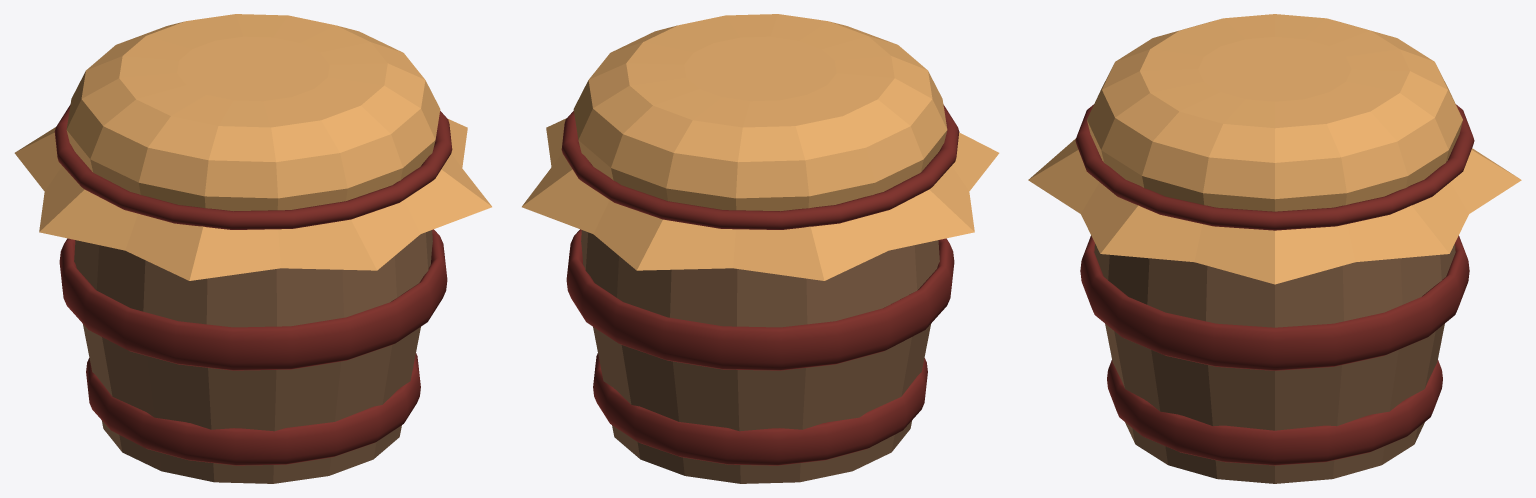
The model's file is env-drum.fbx.
3 renders of one model, left to right at view 1: azimuth 30°, elevation 25°; view 2: azimuth 150°, elevation 25°; view 3: azimuth 270°, elevation 25°, orthographic.
Visible parts, largest first — view 1: Cylinder.194; view 2: Cylinder.194; view 3: Cylinder.194.
Boxes of the visible parts, x1,y1,x2,y2 form: Cylinder.194: (14, 14, 491, 483); Cylinder.194: (522, 14, 999, 483); Cylinder.194: (1028, 14, 1521, 483).
Bounding box in the file's own units: 108 × 84.29 × 108.
